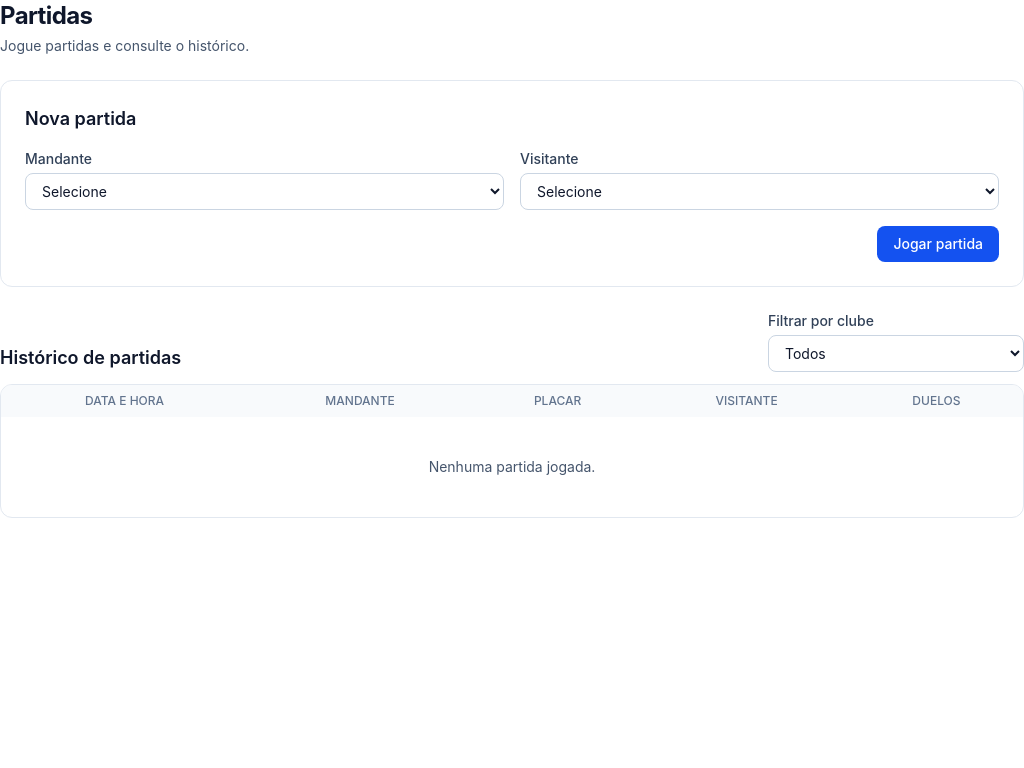
Test: MatchesPage › plays once even on double click and shows the score and the six duels
Check: the text "Nenhuma partida jogada." is shown, box [429,458,595,475]
Select "Águias FC" in the dropdown labelled "Mandante" at (264, 192), box [25,173,504,210]
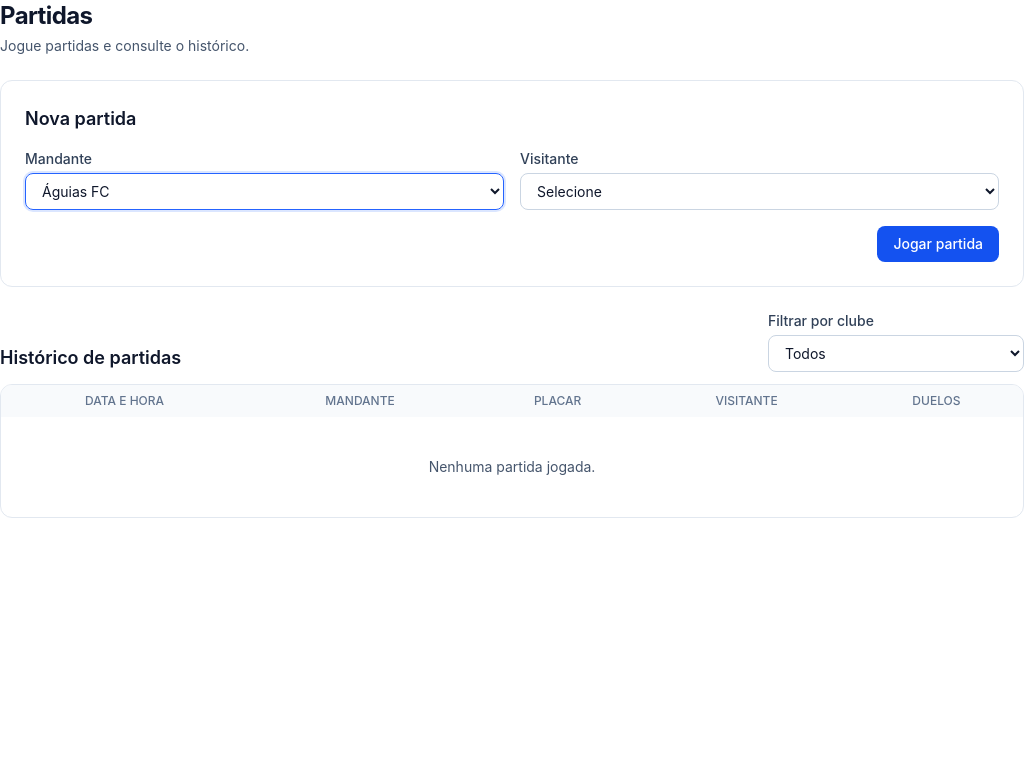
Select "Delta FC" in the dropdown labelled "Visitante" at (760, 192), box [520,173,999,210]
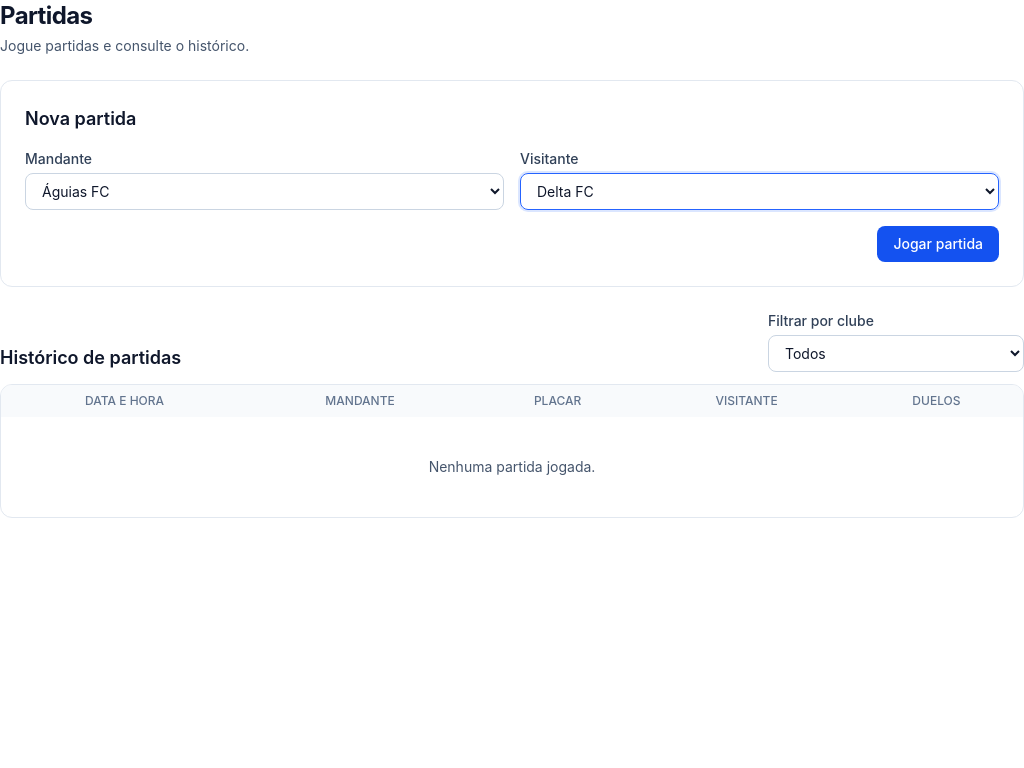
Double-click the button "Jogar partida" at (938, 244), box [877,226,999,262]
(page scrolled)
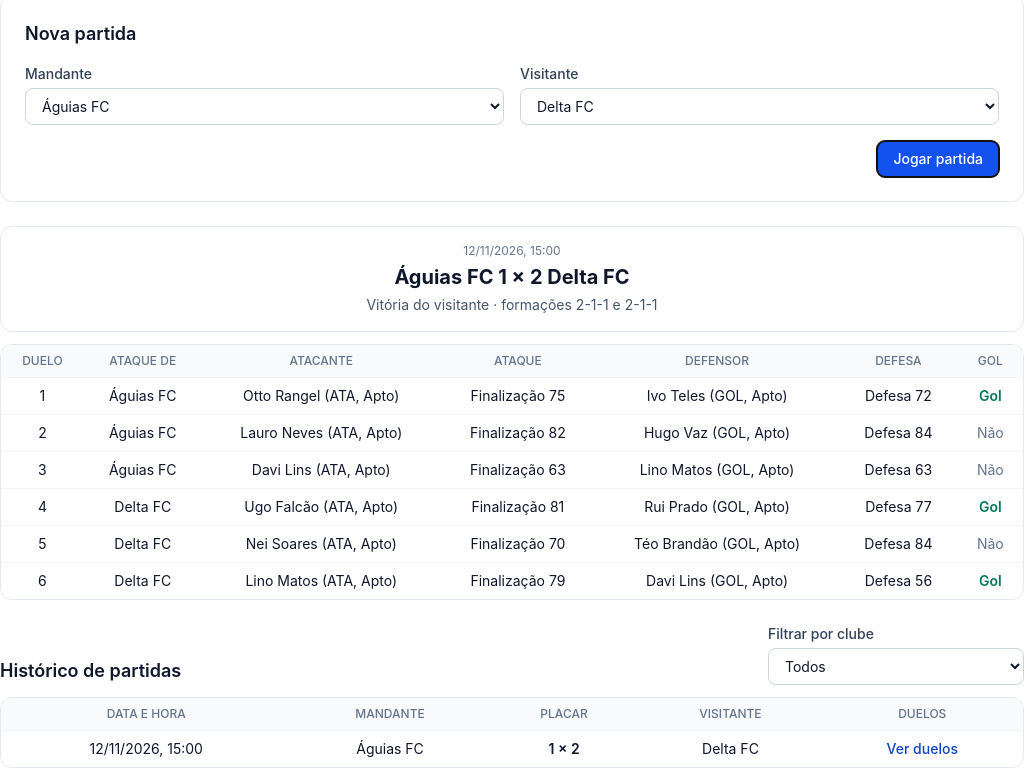
Check: the text "Águias FC 1 × 2 Delta FC" is shown, box [394,263,630,291]
Check: the text "Vitória do visitante · formações 2-1-1 e 2-1-1" is shown, box [366,295,658,315]
Check: the 2nd row shows "Otto Rangel (ATA, Apto)", box [243,387,399,404]
